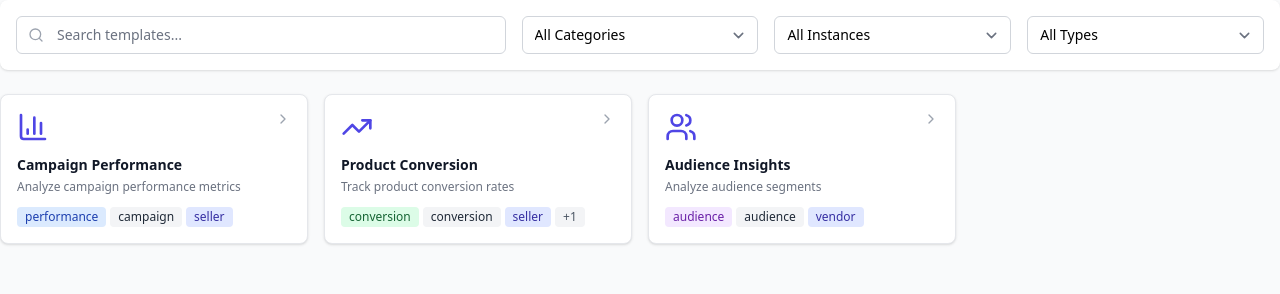
Test case: TemplateGrid › filters templates by report type
The width and height of the screenshot is (1280, 294).
Select "Audience" in the 3rd dropdown named "Report Type" at {"x": 1146, "y": 35}, box [1027,16,1264,54]
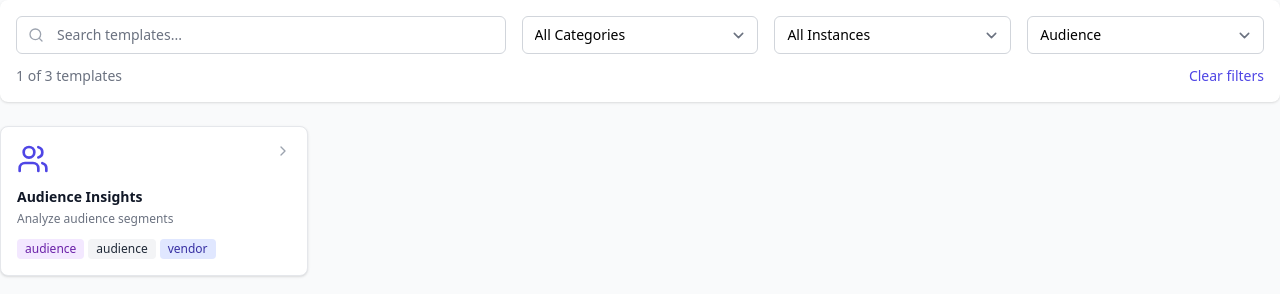
expect the heading "Audience Insights" is shown: met, box [17,187,142,206]
expect the button "Campaign Performance" is gone: met
expect the button "Product Conversion" is gone: met
